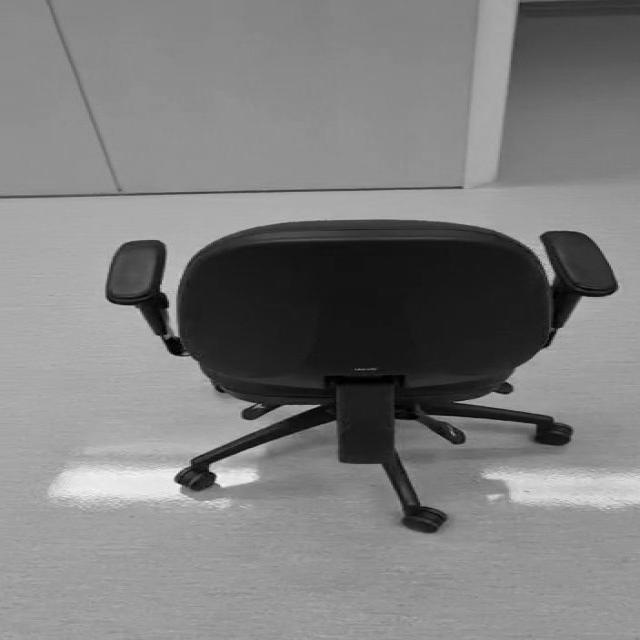chair: (106, 218, 618, 532)
